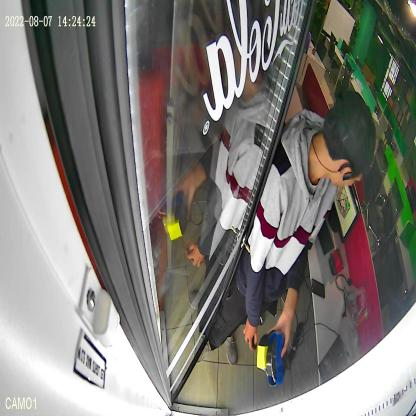blue: (266, 331, 286, 386)
yellow: (256, 330, 274, 374)
